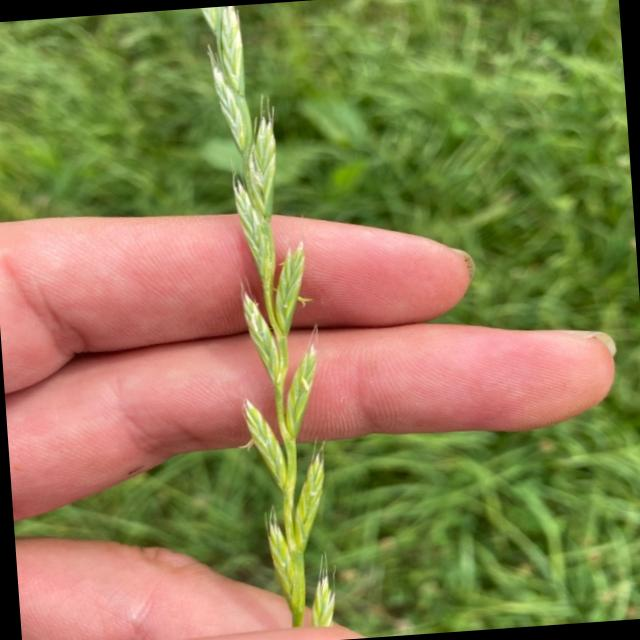Lolium: (196, 2, 344, 634)
